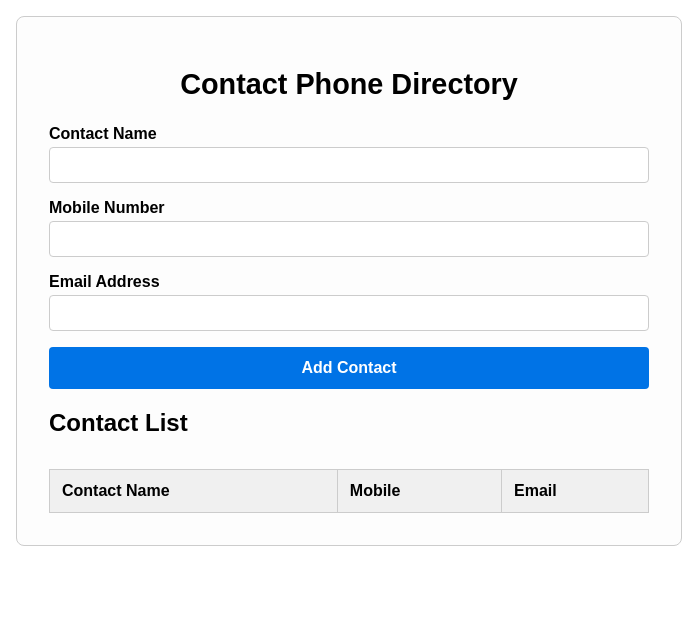
Test: ContactDirectory › shows error on invalid name input
This screenshot has width=699, height=643.
Type "Invalid123" into the field with test id "name" at [349, 165], box [49, 147, 649, 183]
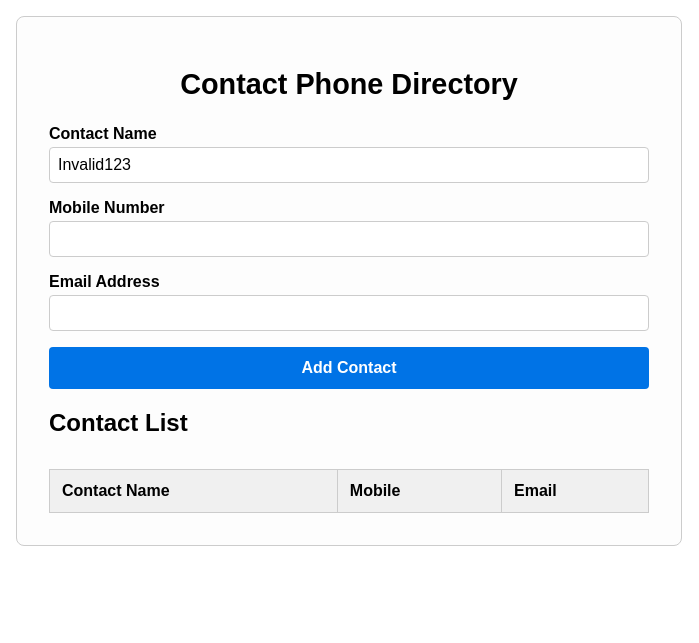
Type "1234567890" into the field with test id "mobile" at [349, 239], box [49, 221, 649, 257]
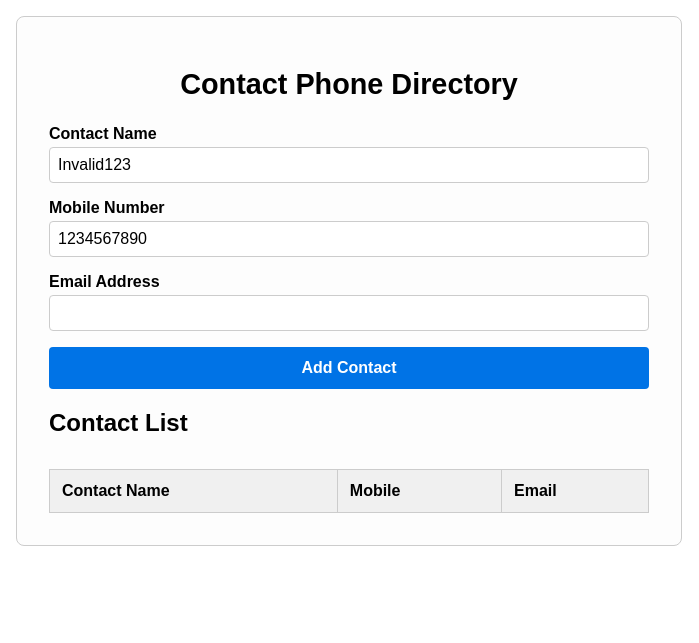
Type "valid@example.com" into the field with test id "email" at [349, 313], box [49, 295, 649, 331]
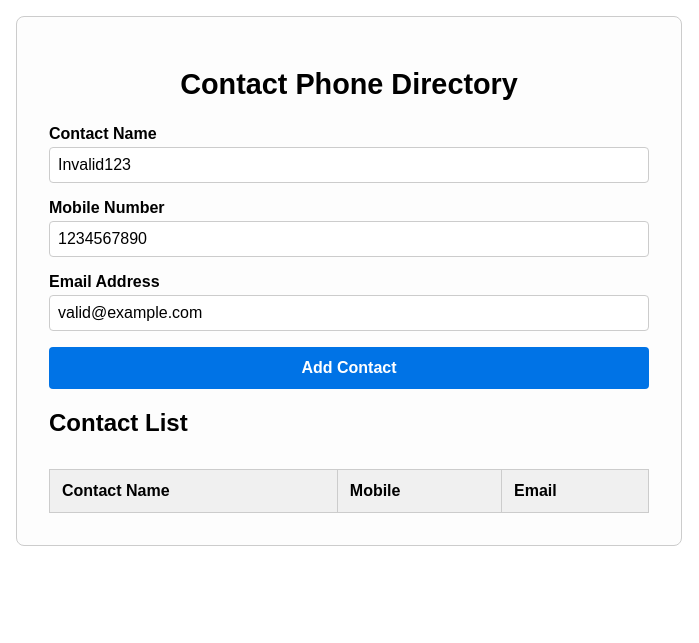
Click the button with test id "submit" at [349, 368], box [49, 347, 649, 389]
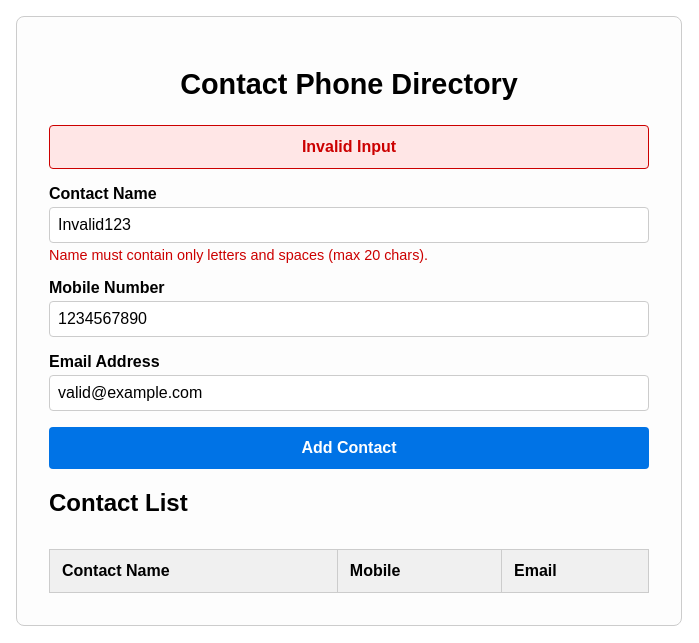
expect the text "Invalid Input" is shown: met, box [49, 125, 649, 169]
